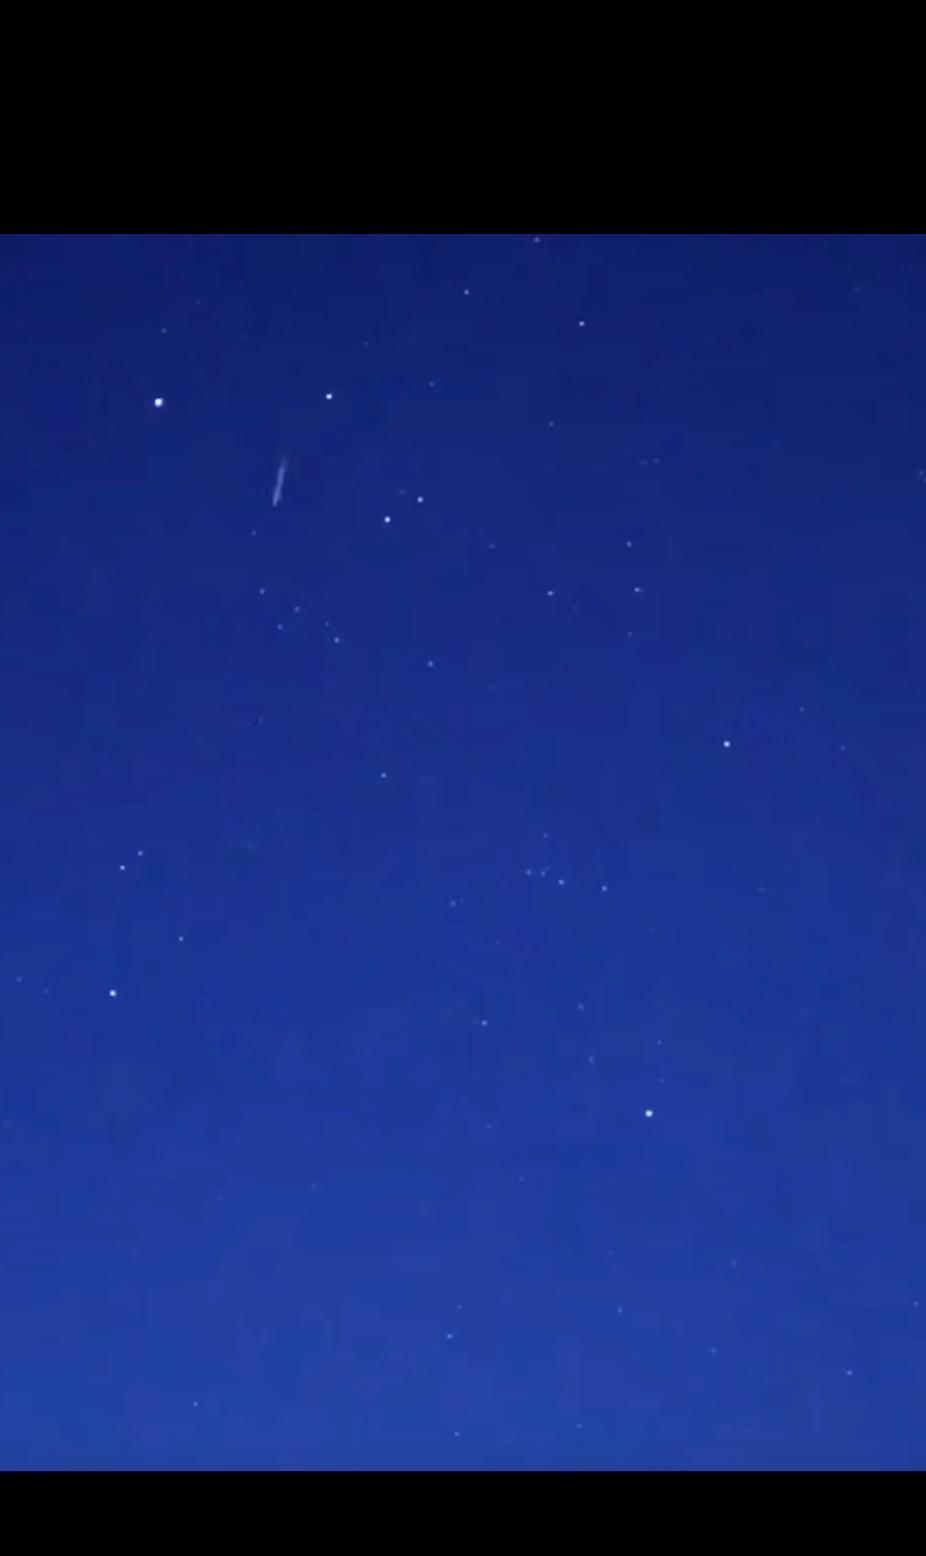meteorite: (251, 442, 313, 520)
